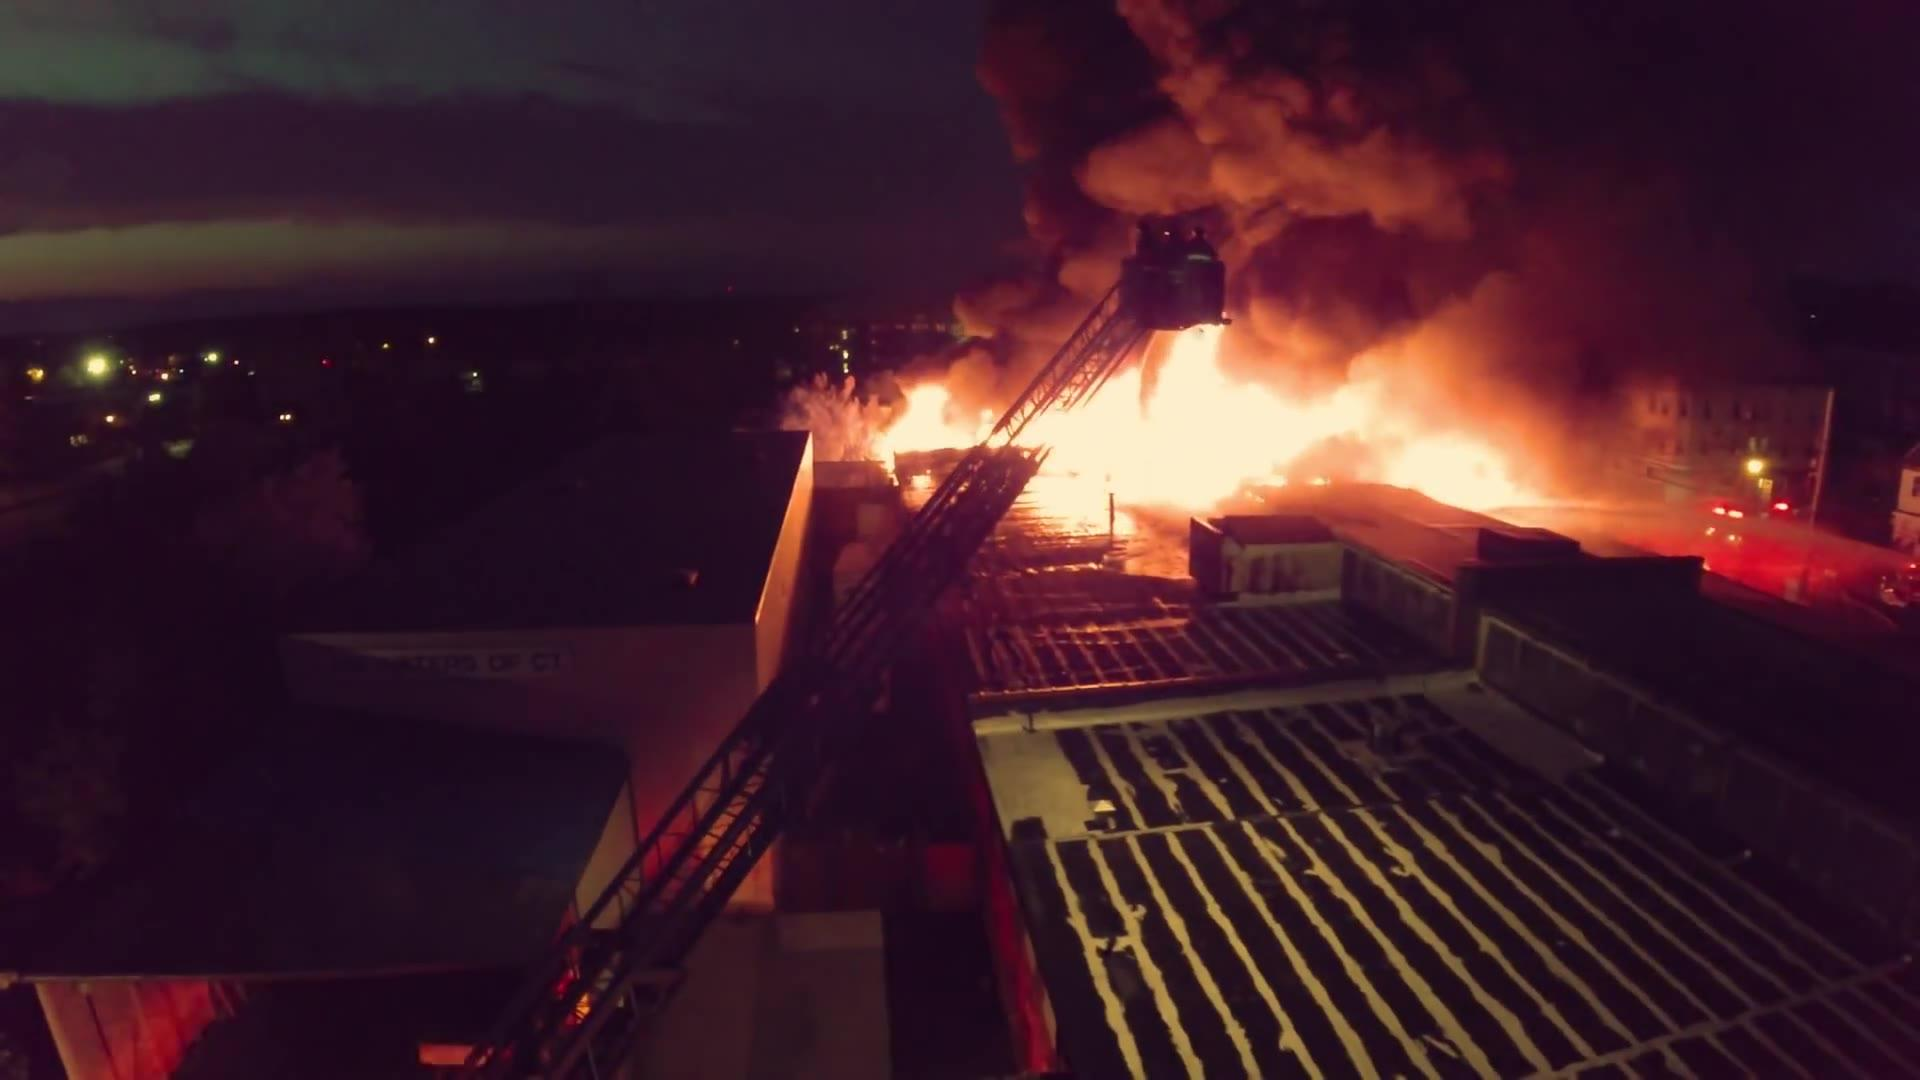fire: (886, 390, 1336, 492)
